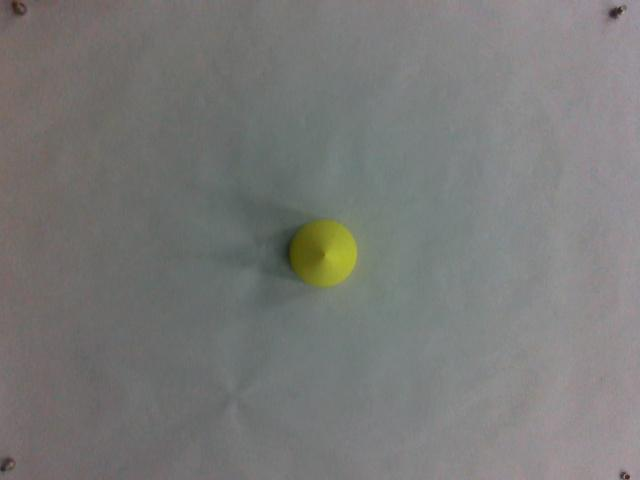cone: (287, 216, 358, 290)
